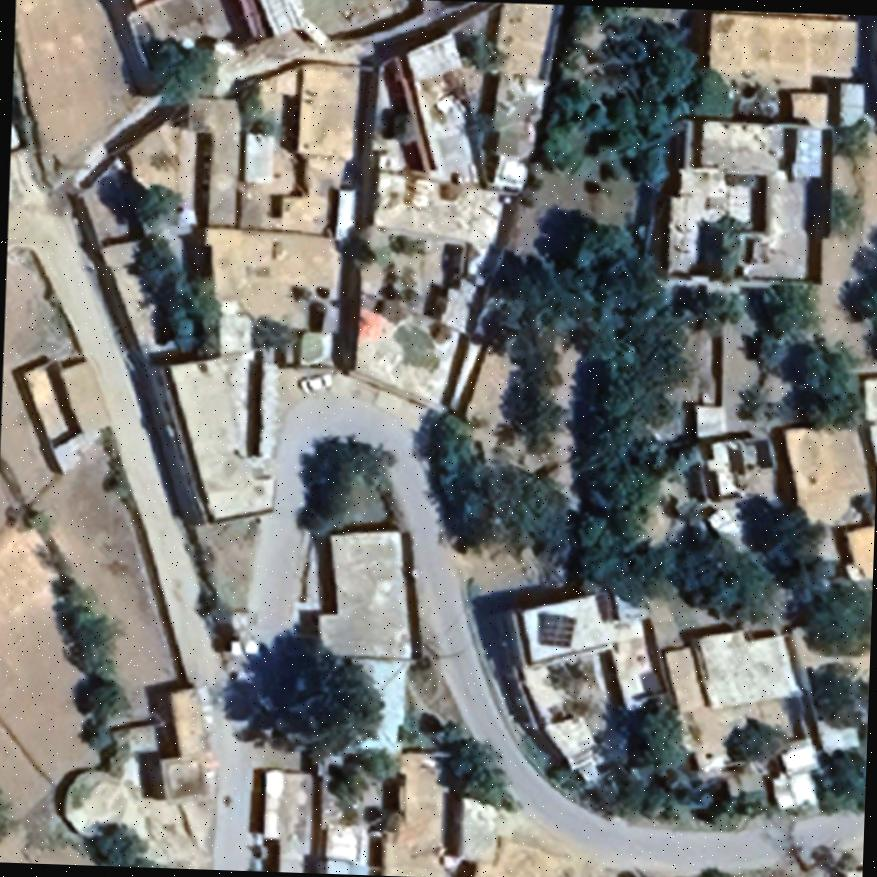Solarpanel: (536, 610, 576, 646)
